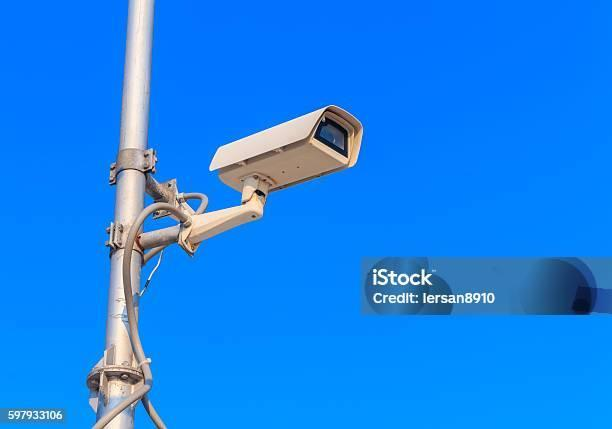------------------------------: (200, 105, 374, 200)
